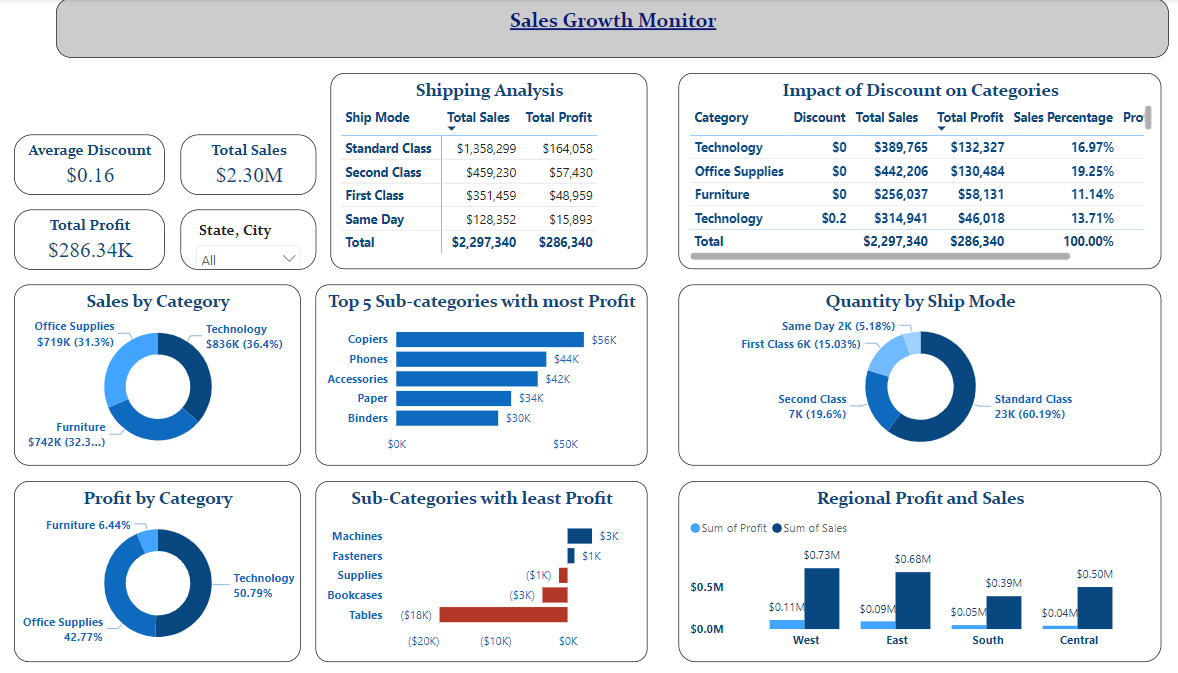

The page's visual inventory and layout, read from the dashboard file:
{"tool":"powerbi","page":{"name":"Categories& Sub-Categories Analysis","canvas":[1280,720],"ordinal":0},"visuals":[{"type":"pivotTable","title":"Shipping Analysis","fields":{"Rows":["SampleSuperstore.Ship Mode"],"Values":["Sum(SampleSuperstore.Sales)","Sum(SampleSuperstore.Profit)"]},"box":[352,80,336,208],"z":0},{"type":"donutChart","title":"Sales by Category","fields":{"Category":["SampleSuperstore.Category"],"Y":["Sum(SampleSuperstore.Sales)"]},"box":[16,304,304,192],"z":1000},{"type":"donutChart","title":"Profit by Category","fields":{"Y":["Sum(SampleSuperstore.Profit)"],"Category":["SampleSuperstore.Category"]},"box":[16,512,304,192],"z":2000},{"type":"donutChart","title":"Quantity by Ship Mode","fields":{"Y":["Sum(SampleSuperstore.Quantity)"],"Category":["SampleSuperstore.Ship Mode"]},"box":[720,304,512,192],"z":3000},{"type":"clusteredColumnChart","title":"Regional Profit and Sales ","fields":{"Category":["SampleSuperstore.Region"],"Y":["Sum(SampleSuperstore.Profit)","Sum(SampleSuperstore.Sales)"]},"box":[720,512,512,192],"z":4001},{"type":"textbox","box":[60.4,0,1180.2,63.6],"z":4002},{"type":"clusteredBarChart","title":"Top 5 Sub-categories with most Profit","fields":{"Category":["SampleSuperstore.Sub-Category"],"Y":["Sum(SampleSuperstore.Profit)"]},"box":[336,304,352,192],"z":4003},{"type":"clusteredBarChart","title":"Sub-Categories with least Profit ","fields":{"Y":["Sum(SampleSuperstore.Profit)"],"Category":["SampleSuperstore.Sub-Category"]},"box":[336,512,352,192],"z":4004},{"type":"card","title":"Average Discount ","fields":{"Values":["SampleSuperstore.Avg discount"]},"box":[16,144,160,64],"z":4005},{"type":"card","title":"Total  Profit","fields":{"Values":["Sum(SampleSuperstore.Profit)"]},"box":[16,224,160,64],"z":4006},{"type":"slicer","fields":{"Values":["SampleSuperstore.State","SampleSuperstore.City"]},"box":[192,224,144,64],"z":4007},{"type":"card","title":"Total Sales ","fields":{"Values":["Sum(SampleSuperstore.Sales)"]},"box":[192,144,144,64],"z":4008},{"type":"tableEx","title":"Impact of Discount on Categories","fields":{"Values":["SampleSuperstore.Category","SampleSuperstore.Discount","Sum(SampleSuperstore.Sales)","Sum(SampleSuperstore.Profit)","Divide(Sum(SampleSuperstore.Sales), ScopedEval(Sum(SampleSuperstore.Sales), []))","Divide(Sum(SampleSuperstore.Profit), ScopedEval(Sum(SampleSuperstore.Profit), []))"]},"box":[720,80,512,208],"z":4009}]}

Visuals, with their boxes in screenshot pixels (x1, y1, x2, y2), scaled from the page's 1280x720 canvas onto the 1178x673 screenshot:
"Shipping Analysis" pivotTable: left=324, top=75, right=633, bottom=269
"Sales by Category" donutChart: left=15, top=284, right=294, bottom=464
"Profit by Category" donutChart: left=15, top=479, right=294, bottom=658
"Quantity by Ship Mode" donutChart: left=663, top=284, right=1134, bottom=464
"Regional Profit and Sales " clusteredColumnChart: left=663, top=479, right=1134, bottom=658
textbox: left=56, top=0, right=1142, bottom=59
"Top 5 Sub-categories with most Profit" clusteredBarChart: left=309, top=284, right=633, bottom=464
"Sub-Categories with least Profit " clusteredBarChart: left=309, top=479, right=633, bottom=658
"Average Discount " card: left=15, top=135, right=162, bottom=194
"Total  Profit" card: left=15, top=209, right=162, bottom=269
slicer - SampleSuperstore.State x SampleSuperstore.City: left=177, top=209, right=309, bottom=269
"Total Sales " card: left=177, top=135, right=309, bottom=194
"Impact of Discount on Categories" tableEx: left=663, top=75, right=1134, bottom=269
